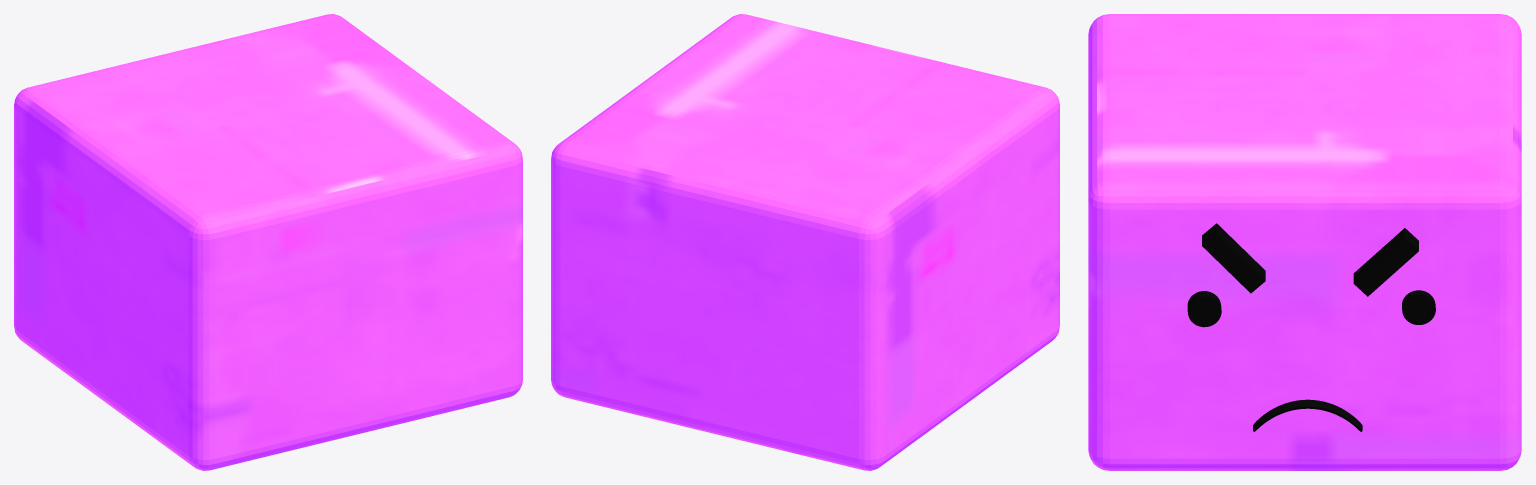
Rendered from packet-spamhaus.glb.
The picture shows the model from 3 angles, left to right: view 1: azimuth 30°, elevation 25°; view 2: azimuth 150°, elevation 25°; view 3: azimuth 270°, elevation 25°; orthographic projection. The views are drawn at different scales.
Visible parts, largest first — view 1: 立方体; view 2: 立方体; view 3: 立方体, 右眉, 左眉, NURBSカーブ, 右目, 左目.
Part boxes in pixels (x1,y1,x2,y2): 立方体: [14, 14, 522, 470]; 立方体: [551, 14, 1059, 470]; 立方体: [1088, 14, 1521, 470]; 右眉: [1353, 228, 1418, 296]; 左眉: [1202, 223, 1265, 293]; NURBSカーブ: [1253, 399, 1362, 431]; 右目: [1187, 291, 1221, 327]; 左目: [1402, 290, 1435, 324].
Size of the model in its own units: 2.11 by 1.47 by 2.
6 materials, 1 textured.
